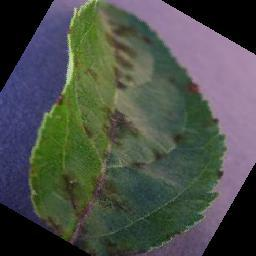apple healthy: (26, 0, 228, 255)
